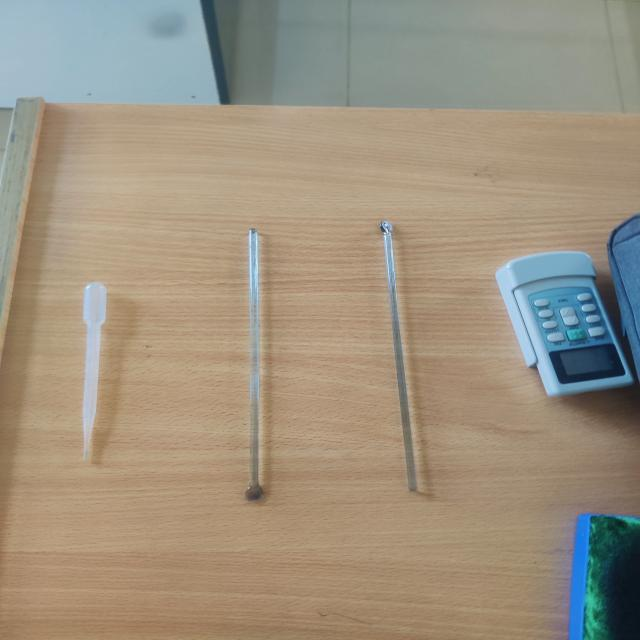Glass_Rod: (344, 194, 488, 522), (218, 192, 307, 524)
Pipette: (60, 253, 130, 481)
